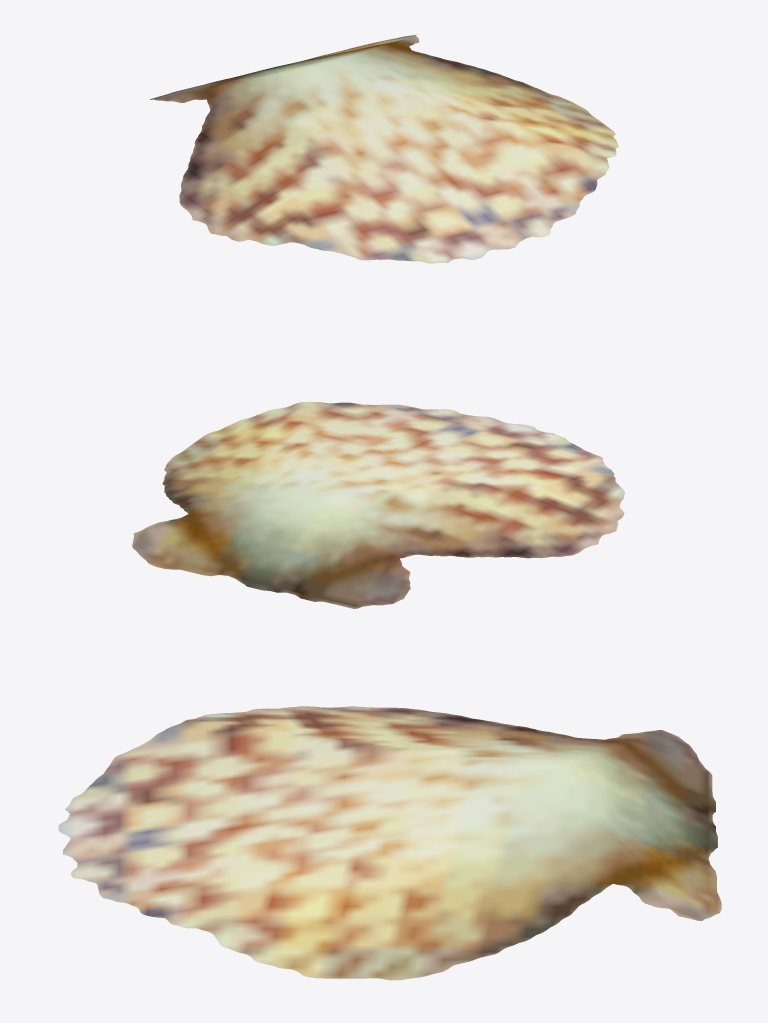
The model's file is shor_seashell_scallop_l0.fbx.
3 views of the same model, one above another, from view 1: azimuth 30°, elevation 25°; view 2: azimuth 150°, elevation 25°; view 3: azimuth 270°, elevation 25° (orthographic). The views are drawn at different scales.
Parts seen in each view (by area): view 1: mesh_node; view 2: mesh_node; view 3: mesh_node.
Part boxes in pixels (bbox=[...]): mesh_node: bbox=[149, 34, 618, 263]; mesh_node: bbox=[132, 402, 624, 608]; mesh_node: bbox=[58, 706, 721, 980].
Size of the model in its own units: 0.1005 by 0.0123 by 0.1005.
Materials: 1 (1 with a texture image).
